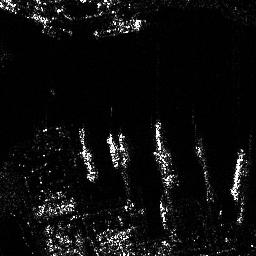ship: (91, 16, 148, 39), (160, 145, 182, 189), (78, 143, 97, 182), (231, 148, 245, 200), (105, 132, 120, 168), (157, 197, 171, 231)
